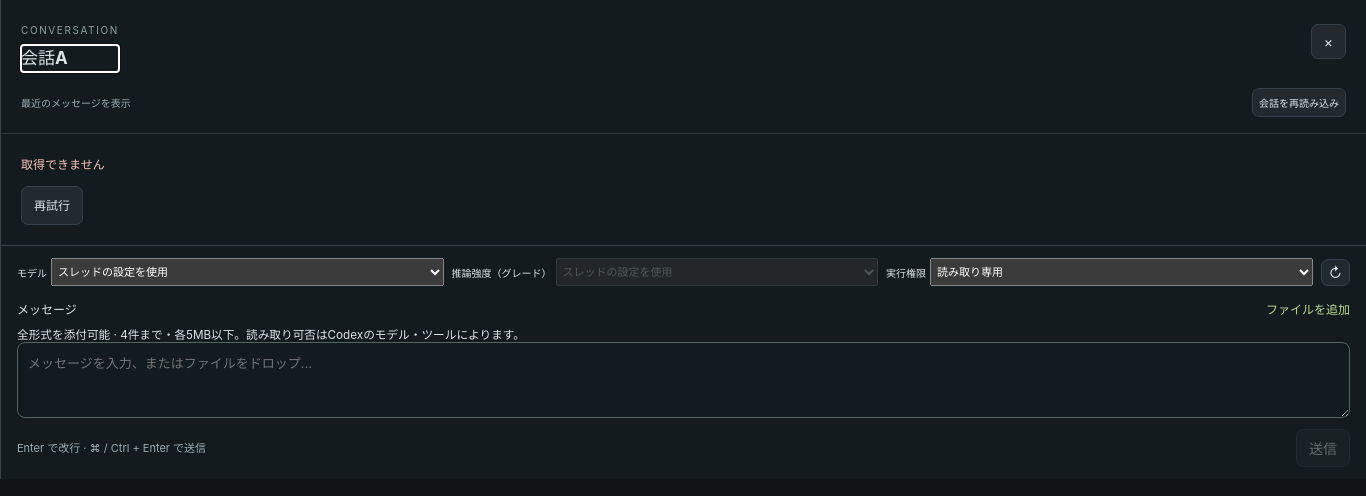
Scenario: shows failure and permits retry
This screenshot has width=1366, height=496.
Expected: the message "取得できません 再試行" is shown, [21,157,105,225]
Click the button "再試行". click: (52, 206)
box: [21,186,83,225]
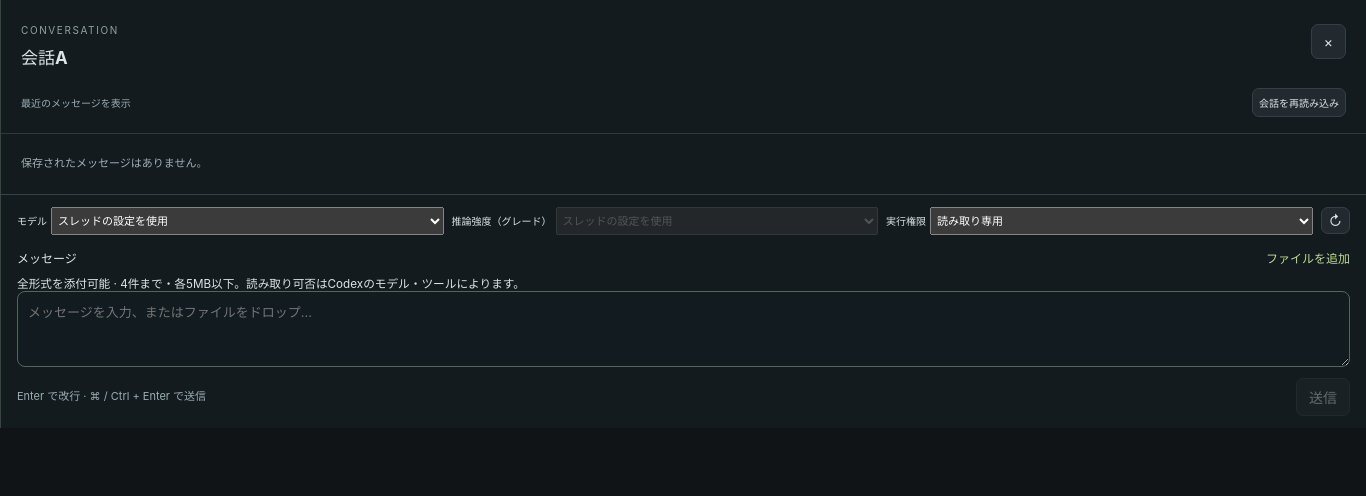
Expected: the text "保存されたメッセージはありません。" is shown, [21,156,208,170]
